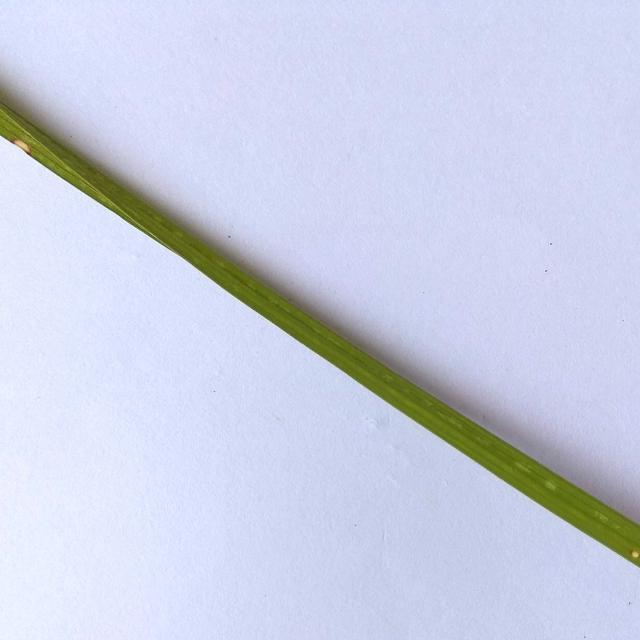Blast: (11, 135, 42, 152), (627, 546, 640, 561)
